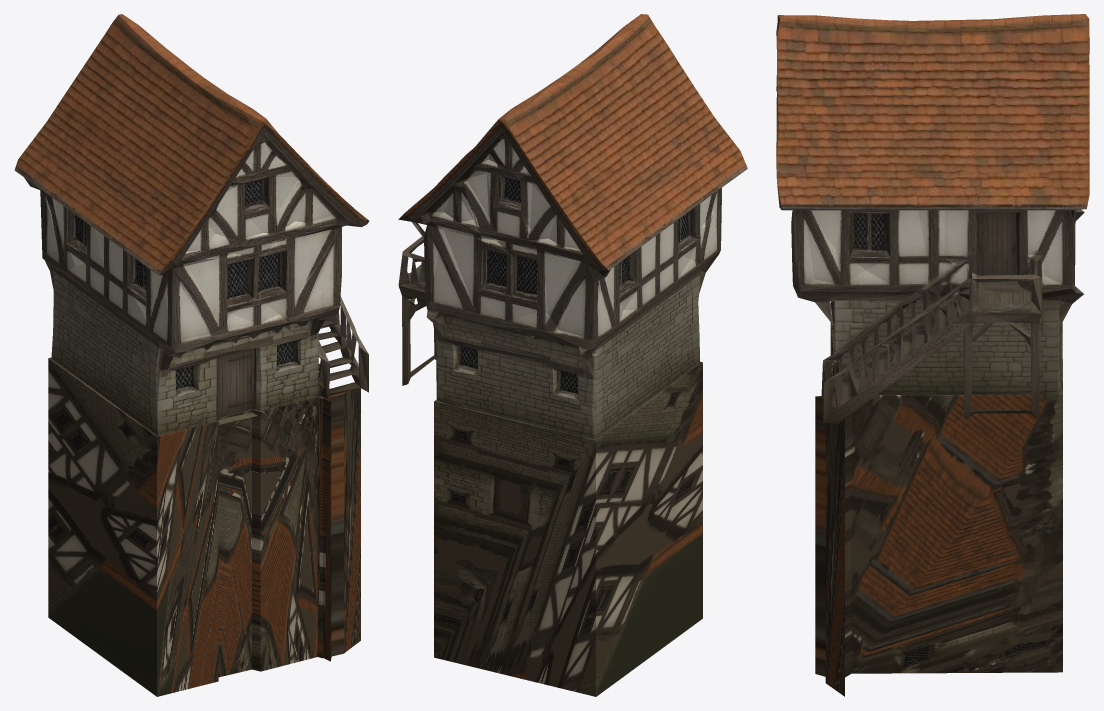
Rendered from townhouse_b.glb.
3 renders of one model, left to right at view 1: azimuth 30°, elevation 25°; view 2: azimuth 150°, elevation 25°; view 3: azimuth 270°, elevation 25°, orthographic. The views are drawn at different scales.
Parts seen in each view (by area): view 1: townhouse_b_export; view 2: townhouse_b_export; view 3: townhouse_b_export.
Boxes of the visible parts, left/top/right/bottom form: townhouse_b_export: left=14, top=14, right=369, bottom=696; townhouse_b_export: left=398, top=14, right=747, bottom=696; townhouse_b_export: left=776, top=14, right=1089, bottom=696.
Size of the model in its own units: 17.59 by 41.15 by 19.
2 materials, 2 textured.
